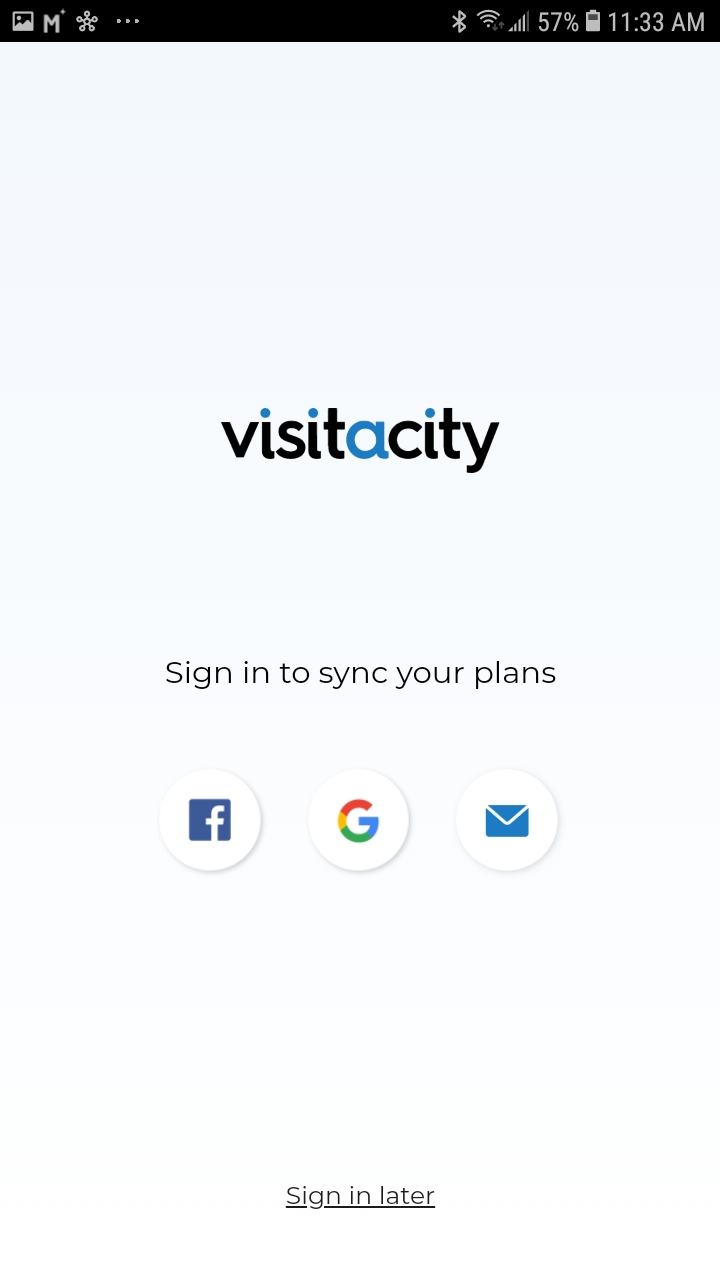Icon: (159, 770, 263, 873), (455, 769, 558, 872), (308, 769, 410, 872)
Image: (222, 407, 501, 474)
Text: (166, 661, 556, 690), (286, 1185, 436, 1210)
UpperTaskBar: (1, 1, 720, 43)
